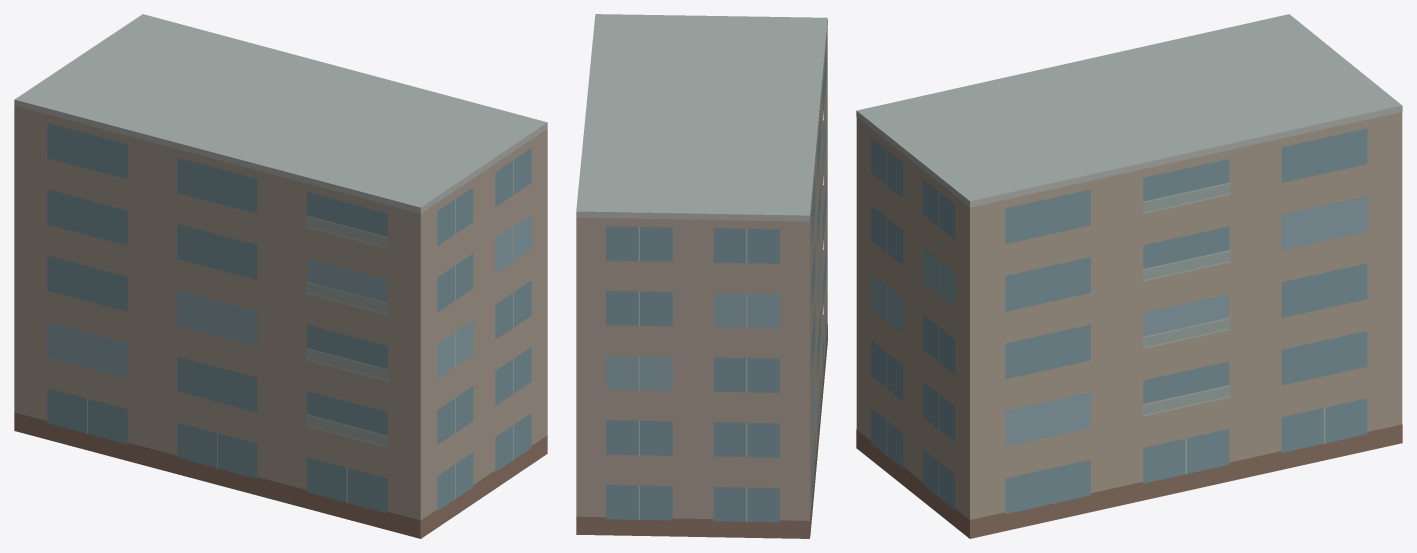
The model's file is survey-upis-32770014.glb.
3 views of the same model, side by side, from view 1: azimuth 30°, elevation 25°; view 2: azimuth 150°, elevation 25°; view 3: azimuth 270°, elevation 25° (orthographic). The views are drawn at different scales.
Parts seen in each view (by area): view 1: survey-upis-32770014.tmp; view 2: survey-upis-32770014.tmp; view 3: survey-upis-32770014.tmp.
Boxes of the visible parts, x1,y1,x2,y2 form: survey-upis-32770014.tmp: [14, 14, 547, 538]; survey-upis-32770014.tmp: [576, 14, 827, 538]; survey-upis-32770014.tmp: [856, 14, 1402, 538].
Bounding box in the file's own units: 15.6 × 13.1 × 19.21.
